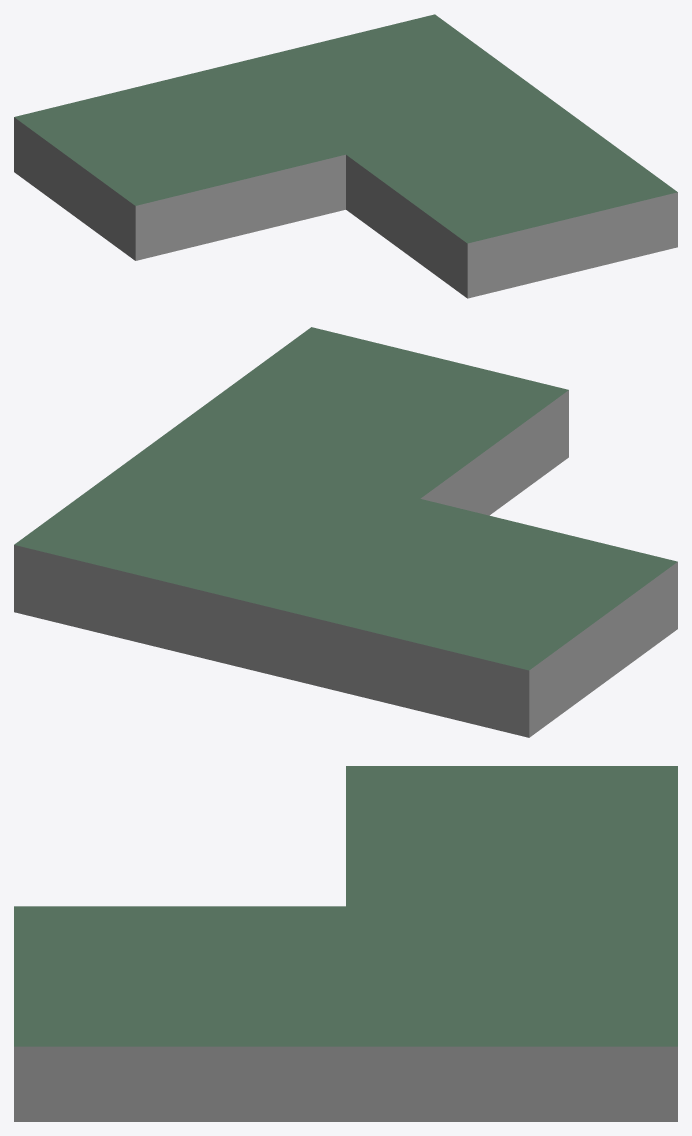
File: Lab_block_Corner_Floor.fbx
The picture shows the model from 3 angles, top to bottom: view 1: azimuth 30°, elevation 25°; view 2: azimuth 150°, elevation 25°; view 3: azimuth 270°, elevation 25°; orthographic projection. The views are drawn at different scales.
Parts seen in each view (by area): view 1: Corner_Floor1; view 2: Corner_Floor1; view 3: Corner_Floor1.
Part boxes in pixels (x1,y1,x2,y2): Corner_Floor1: [14, 14, 677, 298]; Corner_Floor1: [14, 327, 677, 737]; Corner_Floor1: [14, 766, 677, 1121].
Size of the model in its own units: 4 by 0.5 by 4.
